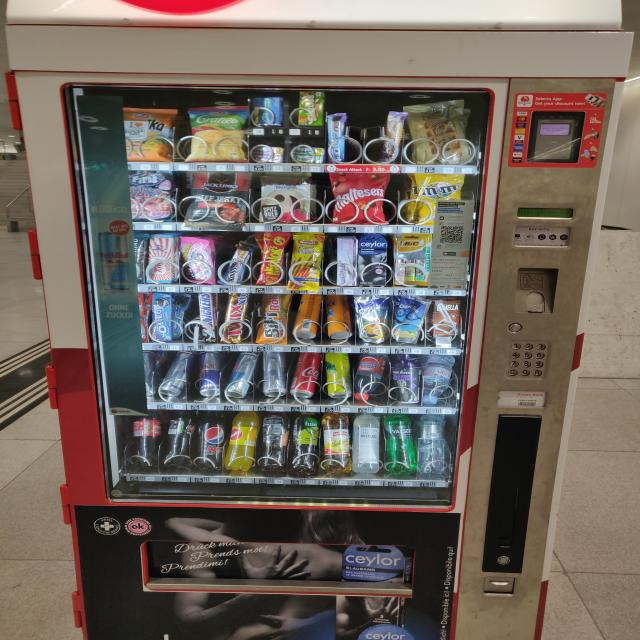airwaves_menthoneucalyptus_riegel_14_1_50173167: (248, 94, 284, 126)
bifi_roll__50__4251097402635: (252, 294, 292, 346)
c-swiss_dosenabisicetea__33__9120025930135: (290, 292, 322, 340), (321, 295, 353, 339)
caferoyal_classicmacchiato__33__7617014164487: (388, 356, 424, 406)
caprisun_multivitamin__20__4000177605004: (351, 292, 391, 344), (389, 294, 430, 342)
coke__dose_33__54491472: (289, 352, 322, 403)
coke__flasche_50__54491472: (123, 408, 162, 468)
coke_zero_flasche_50__5449000131836: (160, 412, 196, 469)
comella_schokodrink__33__7613100037253: (434, 298, 462, 335)
evian___50__3068320353500: (425, 356, 460, 406)
fini_galaxymix_packung_100_1_8410525150364: (129, 170, 173, 220)
fini_jellykisses_packung_80_1_8410525116704: (182, 235, 218, 284)
fuse_lemon__50__5449000235947: (289, 415, 321, 475)
fuse_lemon_dose_33__5449000235947: (324, 352, 353, 399)
fuse_peach__50__5449000236623: (264, 415, 292, 475)
henniez_rot__33__7610235000442: (355, 354, 388, 404)
jacklinks_beefjerkyorginal__25__4047751730219: (188, 170, 256, 226)
jlbrichard_gauffre__90__5410495002000: (411, 99, 475, 164)
kagi_specialedition__50__7610046000259: (143, 233, 180, 285)
knoppers_riegel____4035800488808: (223, 244, 254, 286)
lorenz_nicnacs__40__4018077798818: (258, 229, 291, 284)
malburner_partysticks__40__7610200279682: (285, 234, 327, 290)
maltesers___100__5000159023061: (326, 170, 394, 224)
mnms_gelb__45__40111445: (409, 174, 466, 228)
oreo___66__84100733: (147, 293, 176, 342)
pepsi_max__50__4060800105943: (196, 410, 227, 471)
ramseier_schorle__50__7610057012456: (319, 411, 349, 472)
redbull___33__90162909: (191, 352, 224, 398), (154, 353, 187, 398), (260, 354, 289, 396)
redbull_light__33__90162800: (224, 352, 256, 398)
sinalco_orange__50__4018715000112: (221, 410, 263, 472)
skittles_sour_riegel_51_1_0000000000004: (295, 92, 326, 125)
snickers___50__5000159461122: (198, 294, 221, 344)
stimorol_spearmint_riegel_14_1_0000000000005: (291, 144, 325, 162)
stimorol_wildcherry_riegel_14_1_57060330: (253, 144, 286, 162)
twix___50__5000159459228: (223, 293, 254, 342)
valser_classic__50__76404160: (382, 415, 417, 475)
valser_still__50__7610335002575: (418, 414, 451, 474)
vitaminwell_reload__50__7350042716388: (350, 414, 381, 476)
zweifel_graneochilli__100__7610095184009: (186, 105, 249, 160)
zweifel_paprika__90__7610095013002: (113, 105, 176, 163)
